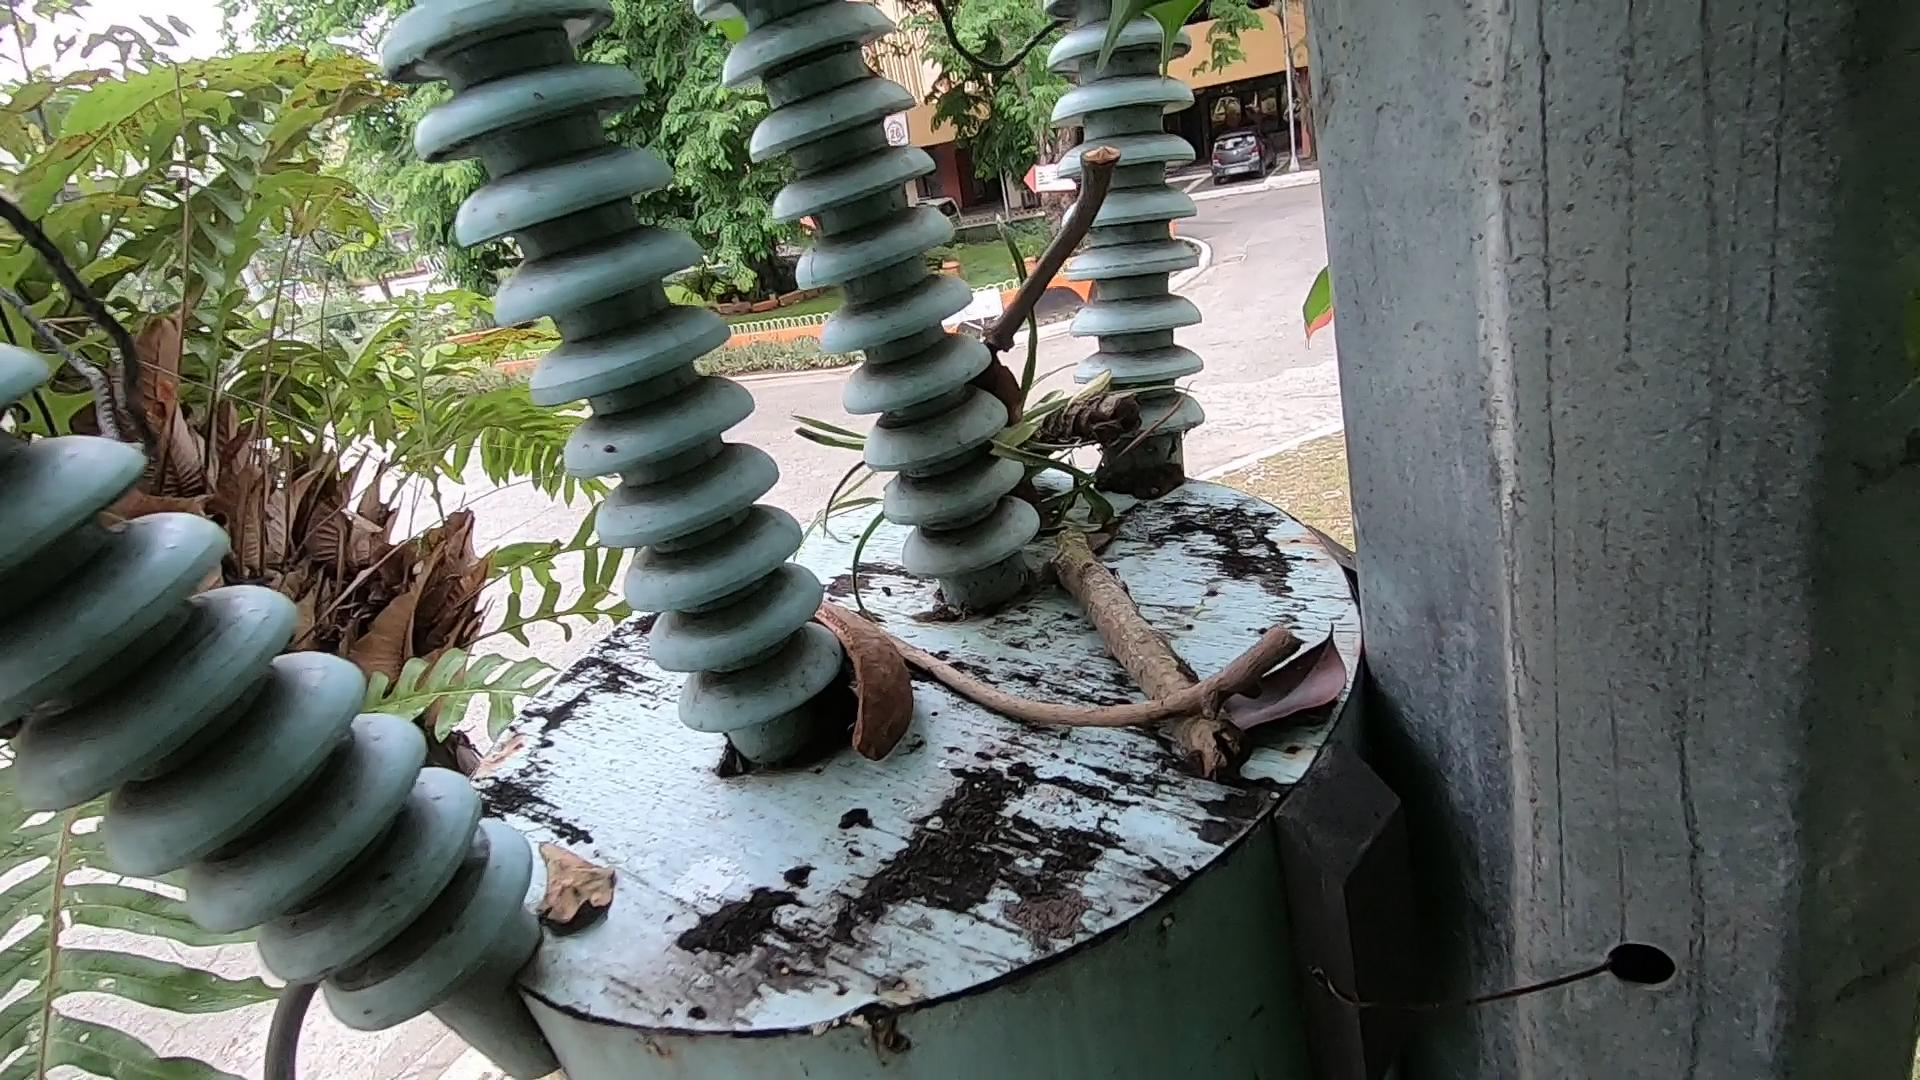branch with leaves: (864, 218, 1241, 798)
leaf: (506, 811, 688, 971), (1211, 588, 1354, 775)
mahogany fruit: (754, 531, 922, 829), (967, 311, 1065, 571)
tree branch: (860, 597, 1354, 778), (963, 136, 1108, 413)
